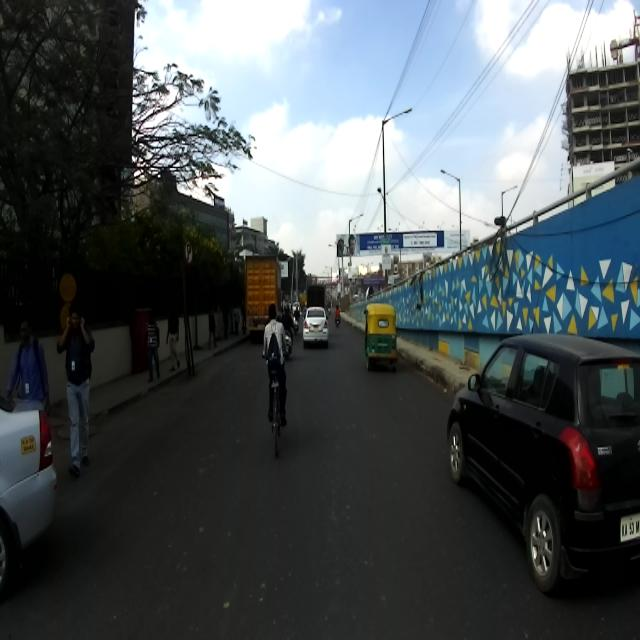auto ahead at: (358, 301, 402, 394)
bicycle ahead at: (264, 361, 288, 453)
car ahead at: (448, 330, 640, 586), (304, 299, 329, 350)
person ahead at: (60, 306, 98, 482)
